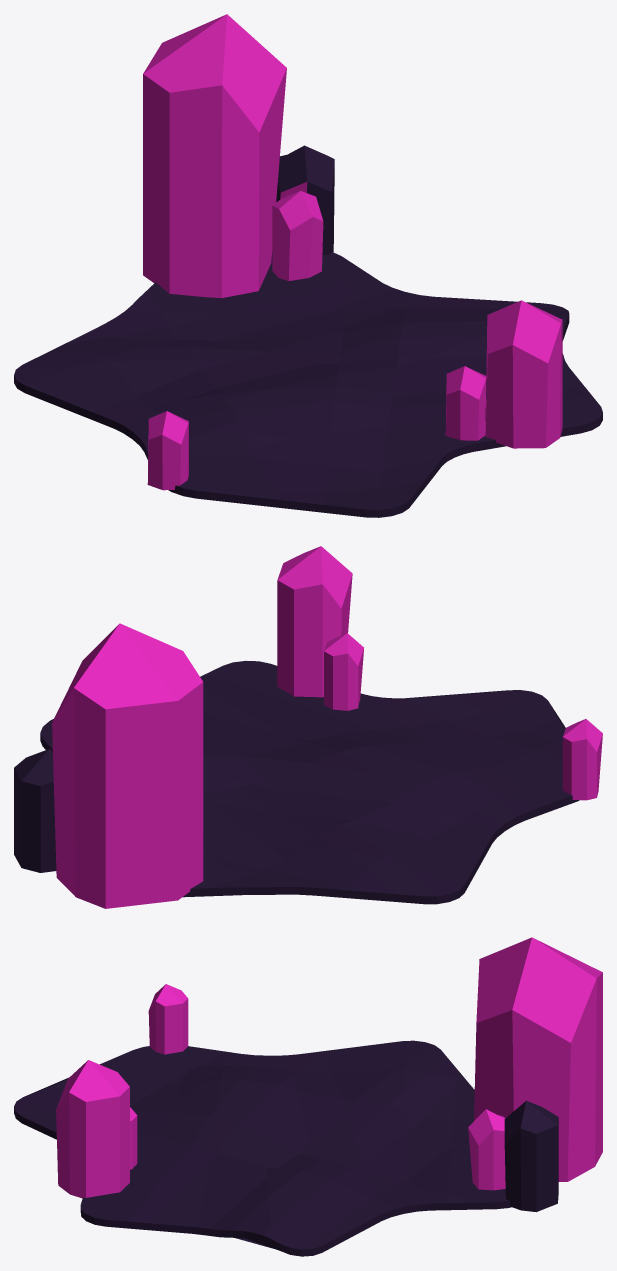
Rendered from Charco GLB.glb.
3 views of the same model, one above another, from view 1: azimuth 30°, elevation 25°; view 2: azimuth 150°, elevation 25°; view 3: azimuth 270°, elevation 25° (orthographic). The views are drawn at different scales.
Parts seen in each view (by area): view 1: Circle; view 2: Circle; view 3: Circle.
Boxes of the visible parts, x1,y1,x2,y2 form: Circle: (14, 14, 602, 517); Circle: (14, 546, 602, 908); Circle: (14, 937, 602, 1256).
Size of the model in its own units: 1.94 by 0.9897 by 2.28.
